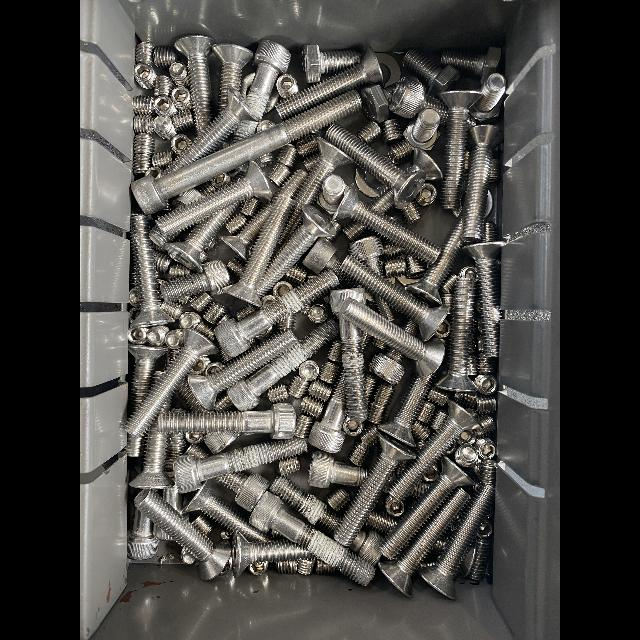Stainless Steel: (132, 123, 291, 215), (123, 330, 218, 437), (378, 488, 470, 598), (382, 456, 475, 561), (388, 401, 483, 500), (342, 256, 449, 341), (335, 433, 416, 545), (134, 489, 230, 580), (420, 484, 495, 599), (189, 329, 296, 409), (220, 195, 295, 307), (158, 162, 271, 236), (340, 298, 444, 378), (327, 123, 426, 207), (332, 184, 439, 260), (164, 89, 257, 175), (279, 137, 353, 243), (276, 49, 383, 120), (257, 204, 336, 298), (174, 437, 307, 492), (182, 482, 274, 542), (236, 40, 291, 138), (431, 278, 477, 391), (130, 215, 175, 327), (157, 404, 296, 440), (405, 217, 461, 305), (441, 90, 481, 210), (462, 241, 503, 356), (462, 125, 502, 241), (376, 372, 436, 448), (165, 207, 233, 273), (214, 299, 288, 357), (281, 90, 362, 142), (270, 476, 341, 531), (175, 35, 214, 134), (248, 490, 315, 547), (231, 531, 310, 577), (309, 367, 347, 454), (129, 415, 173, 490), (220, 203, 272, 259), (160, 260, 231, 301), (212, 43, 253, 111), (226, 361, 281, 411), (389, 77, 448, 123), (404, 49, 460, 97), (128, 344, 168, 409), (303, 239, 354, 286), (302, 44, 360, 84), (441, 47, 501, 84), (214, 471, 270, 510), (308, 453, 370, 488), (331, 288, 365, 350), (127, 509, 160, 561), (470, 73, 506, 120), (403, 108, 440, 150), (361, 84, 398, 124), (299, 318, 338, 355), (336, 549, 374, 586), (347, 236, 383, 275), (316, 174, 349, 215), (297, 271, 341, 301), (177, 377, 212, 413), (369, 351, 405, 385), (350, 530, 384, 565), (345, 369, 366, 420), (274, 169, 307, 201), (133, 133, 155, 175), (165, 433, 187, 471), (204, 431, 239, 454), (471, 542, 491, 580), (366, 511, 398, 534), (388, 139, 414, 164), (172, 188, 204, 208), (326, 487, 351, 512), (134, 62, 157, 89), (373, 296, 396, 322), (163, 484, 183, 513), (153, 46, 179, 68), (276, 73, 298, 99), (357, 121, 381, 144), (149, 227, 173, 250), (300, 395, 324, 418), (308, 379, 332, 402), (371, 190, 394, 214), (266, 164, 289, 188), (454, 445, 479, 467), (459, 544, 476, 576), (153, 116, 176, 139), (225, 212, 248, 235), (203, 303, 227, 325), (169, 61, 189, 87), (473, 374, 497, 395), (318, 361, 339, 385), (342, 221, 366, 242), (372, 384, 393, 408), (382, 119, 402, 144), (287, 376, 309, 398), (285, 263, 307, 285), (170, 87, 191, 110), (171, 109, 194, 130), (416, 183, 437, 206), (267, 383, 290, 404), (473, 438, 496, 459), (189, 292, 213, 312), (153, 75, 175, 96), (296, 135, 317, 157), (298, 360, 319, 382), (384, 495, 405, 517), (154, 96, 177, 116), (132, 95, 155, 115), (147, 326, 170, 346), (406, 255, 426, 278), (160, 301, 184, 320), (153, 251, 173, 273), (278, 456, 300, 476), (384, 256, 406, 276), (349, 443, 368, 466), (477, 414, 495, 438), (133, 114, 154, 134), (171, 134, 191, 155), (476, 394, 497, 414), (240, 197, 262, 216), (402, 201, 421, 223), (195, 318, 214, 340), (307, 304, 329, 323), (417, 401, 436, 423), (152, 150, 175, 168), (295, 415, 313, 438), (278, 144, 296, 167), (264, 88, 280, 113), (135, 42, 154, 63), (342, 417, 363, 436), (193, 515, 212, 536), (179, 311, 201, 329), (124, 435, 142, 457), (359, 424, 377, 446), (422, 462, 440, 483), (430, 410, 448, 431), (481, 459, 495, 486), (476, 519, 493, 541), (153, 522, 172, 541), (165, 329, 183, 349), (191, 356, 211, 374), (128, 327, 149, 344), (427, 389, 448, 406), (327, 339, 342, 362), (277, 313, 296, 331), (412, 421, 430, 440), (185, 444, 209, 458), (382, 243, 407, 256), (227, 258, 244, 277), (367, 407, 386, 424), (274, 560, 297, 574), (168, 263, 191, 277), (273, 281, 293, 297), (236, 305, 256, 321), (410, 481, 430, 497), (480, 223, 496, 243), (303, 154, 320, 172), (297, 558, 315, 575), (181, 547, 198, 565), (214, 395, 233, 411), (315, 560, 335, 575), (364, 373, 376, 398), (441, 275, 456, 295), (480, 352, 494, 373), (435, 317, 450, 336), (456, 430, 476, 444), (402, 319, 418, 336), (255, 153, 273, 168), (212, 173, 230, 188), (205, 362, 224, 376), (218, 343, 231, 363), (256, 120, 275, 133), (200, 181, 216, 196), (255, 325, 272, 339), (461, 266, 476, 280), (206, 236, 219, 252), (145, 167, 162, 179), (129, 288, 140, 306), (185, 432, 203, 443), (443, 294, 454, 312), (262, 294, 276, 308), (129, 308, 140, 325), (221, 558, 232, 575), (434, 537, 449, 549), (467, 355, 476, 375), (152, 371, 164, 384), (219, 314, 233, 325), (221, 529, 232, 539), (200, 251, 209, 263)
